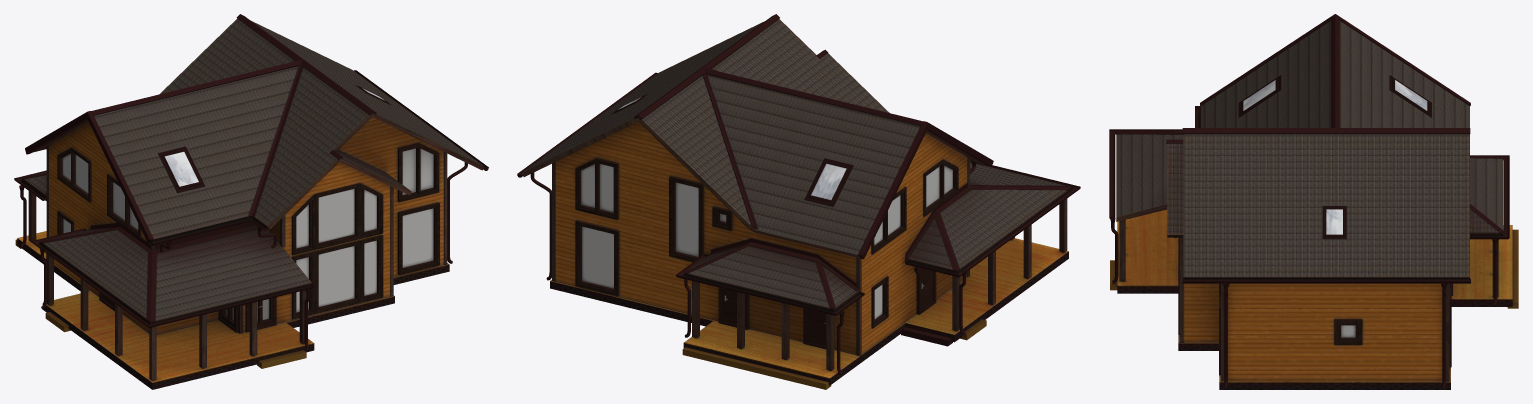
Rendered from finnish-cottage-y0.glb.
The picture shows the model from 3 angles, left to right: view 1: azimuth 30°, elevation 25°; view 2: azimuth 150°, elevation 25°; view 3: azimuth 270°, elevation 25°; orthographic projection. The views are drawn at different scales.
Parts seen in each view (by area): view 1: Object_198, Object_120, Object_52; view 2: Object_198, Object_120, Object_52; view 3: Object_198, Object_52, Object_120.
Part boxes in pixels (box(x1,y1,x2,y2)): Object_198: box(17, 18, 484, 389); Object_120: box(57, 85, 439, 332); Object_52: box(14, 14, 488, 368); Object_198: box(522, 19, 1071, 385); Object_120: box(575, 94, 958, 349); Object_52: box(517, 14, 1080, 389); Object_198: box(1116, 21, 1512, 389); Object_52: box(1109, 14, 1518, 387); Object_120: box(1178, 75, 1452, 375).
Bounding box in the file's own units: 9.84 × 4.98 × 8.58.
4 materials, 4 textured.
